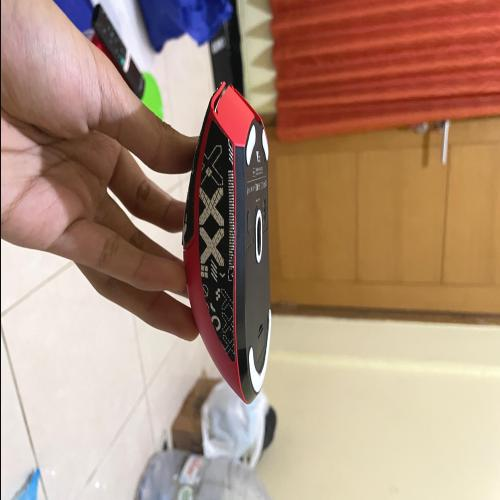Mouse: (167, 73, 284, 416)
